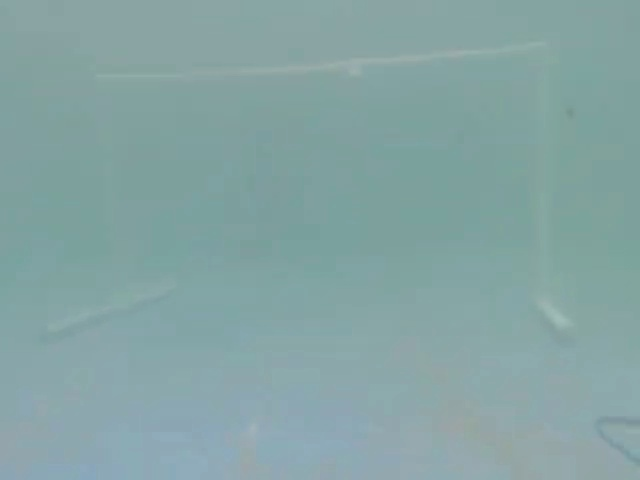gate: (34, 33, 585, 350)
